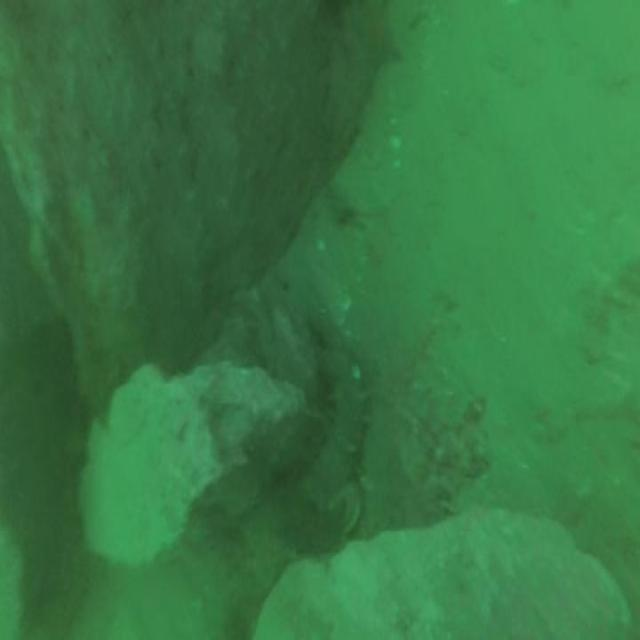holothurian: (314, 372, 368, 492)
